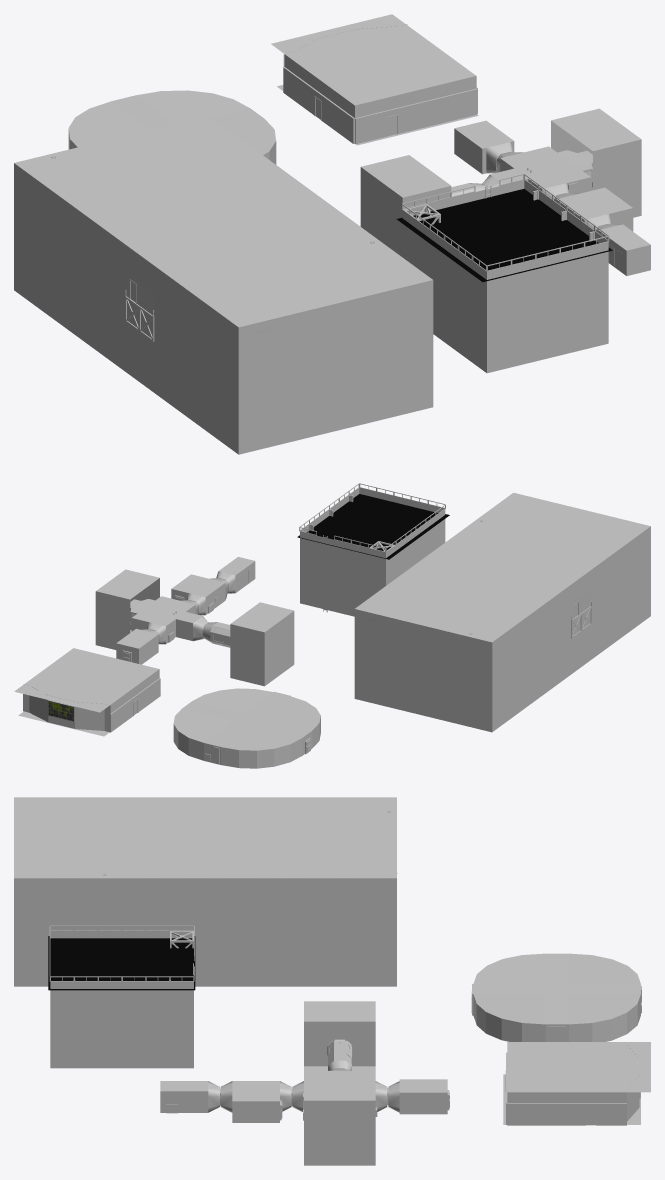
File: Simple_Space_Interiors_Demo.fbx
The picture shows the model from 3 angles, top to bottom: view 1: azimuth 30°, elevation 25°; view 2: azimuth 150°, elevation 25°; view 3: azimuth 270°, elevation 25°; orthographic projection. The views are drawn at different scales.
Visible parts, largest first — view 1: SM_Env_Water_01_2, SM_Env_Wall_41, SM_Env_Wall_43, SM_Env_Wall_44, SM_Env_Wall_40, SM_Env_Wall_42, SM_Env_Large_Corner_2, SM_Env_Large_Corner_01_444, SM_Env_Wall_38, SM_Env_Wall_51, SM_Env_Wall_39, SM_Env_Construction_Wall_84 (+133 smaller); view 2: SM_Env_Water_01_2, SM_Env_Large_Corner_01_444, SM_Env_WorldMap_02_518, SM_Env_Large_Corner_2, SM_Env_Large_Corner_4, SM_Env_Wall_31, SM_Env_Wall_32, SM_Env_Wall_1175, SM_Env_Large_Corner_3, SM_Env_Wall_33, SM_Env_Wall_34, SM_Env_Construction_Wall_45 (+19 smaller); view 3: SM_Env_Water_01_2, SM_Env_Large_Corner_3, SM_Env_Large_Corner_2, SM_Env_Wall_45, SM_Env_Wall_50, SM_Env_Wall_46, SM_Env_Wall_47, SM_Env_Wall_48, SM_Env_Wall_49, SM_Env_Large_Corner_4, SM_Env_Large_Corner_01_444, SM_Env_Construction_Wall_52 (+52 smaller).
Part boxes in pixels (x1=…): SM_Env_Water_01_2: x1=396, y1=189, x2=612, y2=282; SM_Env_Wall_41: x1=511, y1=260, x2=535, y2=367; SM_Env_Wall_43: x1=560, y1=248, x2=584, y2=355; SM_Env_Wall_44: x1=584, y1=242, x2=608, y2=349; SM_Env_Wall_40: x1=487, y1=266, x2=511, y2=373; SM_Env_Wall_42: x1=535, y1=254, x2=559, y2=361; SM_Env_Large_Corner_2: x1=136, y1=90, x2=249, y2=123; SM_Env_Large_Corner_01_444: x1=68, y1=101, x2=149, y2=149; SM_Env_Wall_38: x1=444, y1=241, x2=458, y2=352; SM_Env_Wall_51: x1=473, y1=262, x2=486, y2=372; SM_Env_Wall_39: x1=459, y1=252, x2=472, y2=362; SM_Env_Construction_Wall_84: x1=237, y1=341, x2=287, y2=377; SM_Env_Water_01_2: x1=297, y1=494, x2=449, y2=559; SM_Env_Large_Corner_01_444: x1=221, y1=725, x2=302, y2=768; SM_Env_WorldMap_02_518: x1=23, y1=687, x2=110, y2=732; SM_Env_Large_Corner_2: x1=173, y1=708, x2=233, y2=760; SM_Env_Large_Corner_4: x1=261, y1=696, x2=320, y2=747; SM_Env_Wall_31: x1=317, y1=535, x2=334, y2=611; SM_Env_Wall_32: x1=334, y1=540, x2=351, y2=615; SM_Env_Wall_1175: x1=300, y1=531, x2=316, y2=607; SM_Env_Large_Corner_3: x1=192, y1=688, x2=272, y2=713; SM_Env_Wall_33: x1=351, y1=544, x2=368, y2=616; SM_Env_Wall_34: x1=369, y1=549, x2=385, y2=597; SM_Env_Construction_Wall_45: x1=457, y1=688, x2=492, y2=714; SM_Env_Water_01_2: x1=48, y1=936, x2=195, y2=990; SM_Env_Large_Corner_3: x1=473, y1=994, x2=545, y2=1041; SM_Env_Large_Corner_2: x1=569, y1=994, x2=640, y2=1041; SM_Env_Wall_45: x1=74, y1=982, x2=98, y2=1068; SM_Env_Wall_50: x1=50, y1=982, x2=74, y2=1068; SM_Env_Wall_46: x1=98, y1=982, x2=121, y2=1068; SM_Env_Wall_47: x1=122, y1=982, x2=145, y2=1068; SM_Env_Wall_48: x1=146, y1=982, x2=169, y2=1068; SM_Env_Wall_49: x1=170, y1=982, x2=193, y2=1068; SM_Env_Large_Corner_4: x1=473, y1=953, x2=545, y2=983; SM_Env_Large_Corner_01_444: x1=569, y1=953, x2=640, y2=983; SM_Env_Construction_Wall_52: x1=205, y1=921, x2=253, y2=943.
Size of the model in its own units: 11800 by 13310 by 3007.
